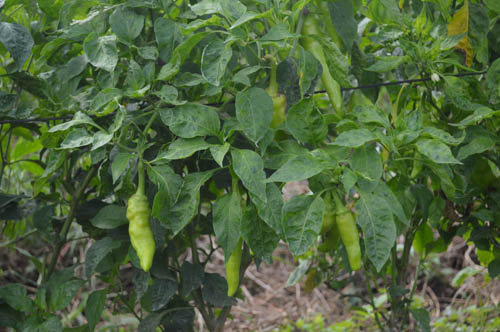ChiliPepper: (305, 17, 346, 111), (126, 198, 158, 275), (338, 213, 364, 269), (224, 227, 238, 300), (318, 215, 335, 254)
